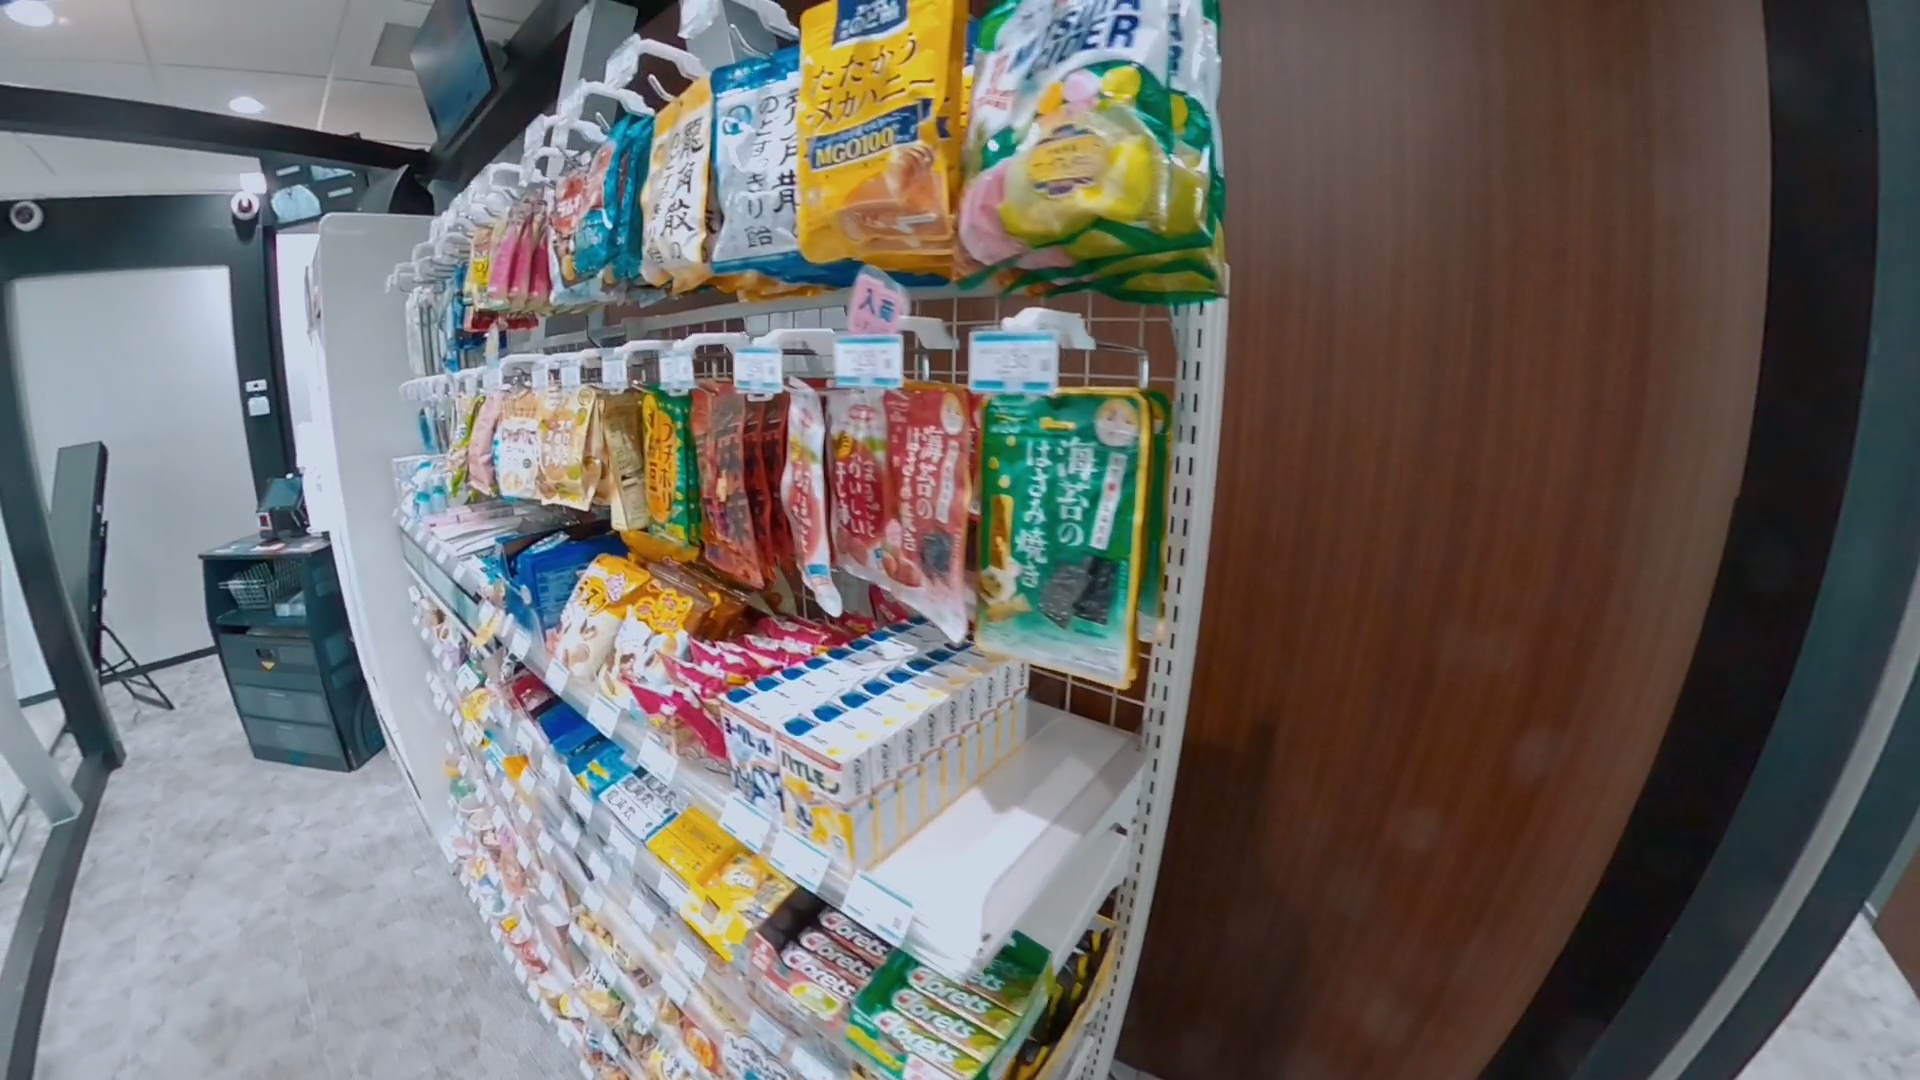NorinoHasamiyaki: (973, 392, 1140, 688)
